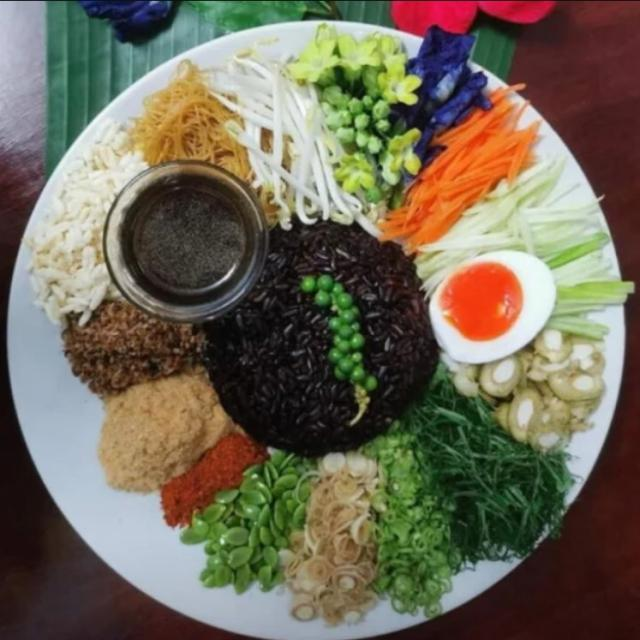carb: (267, 238, 430, 436)
rice salad: (44, 19, 608, 604)
vegetable: (387, 436, 578, 580), (417, 112, 595, 260)
